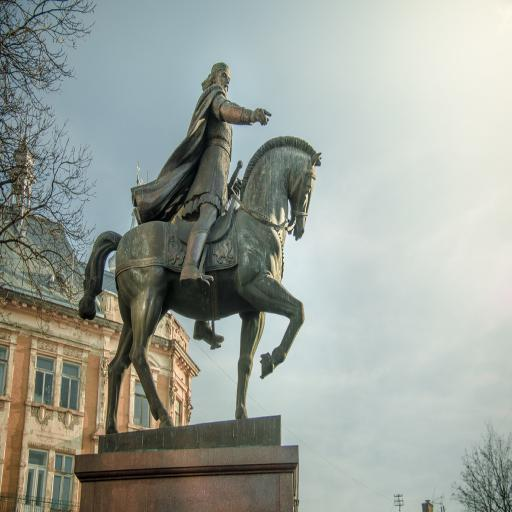horse: (78, 135, 323, 434)
